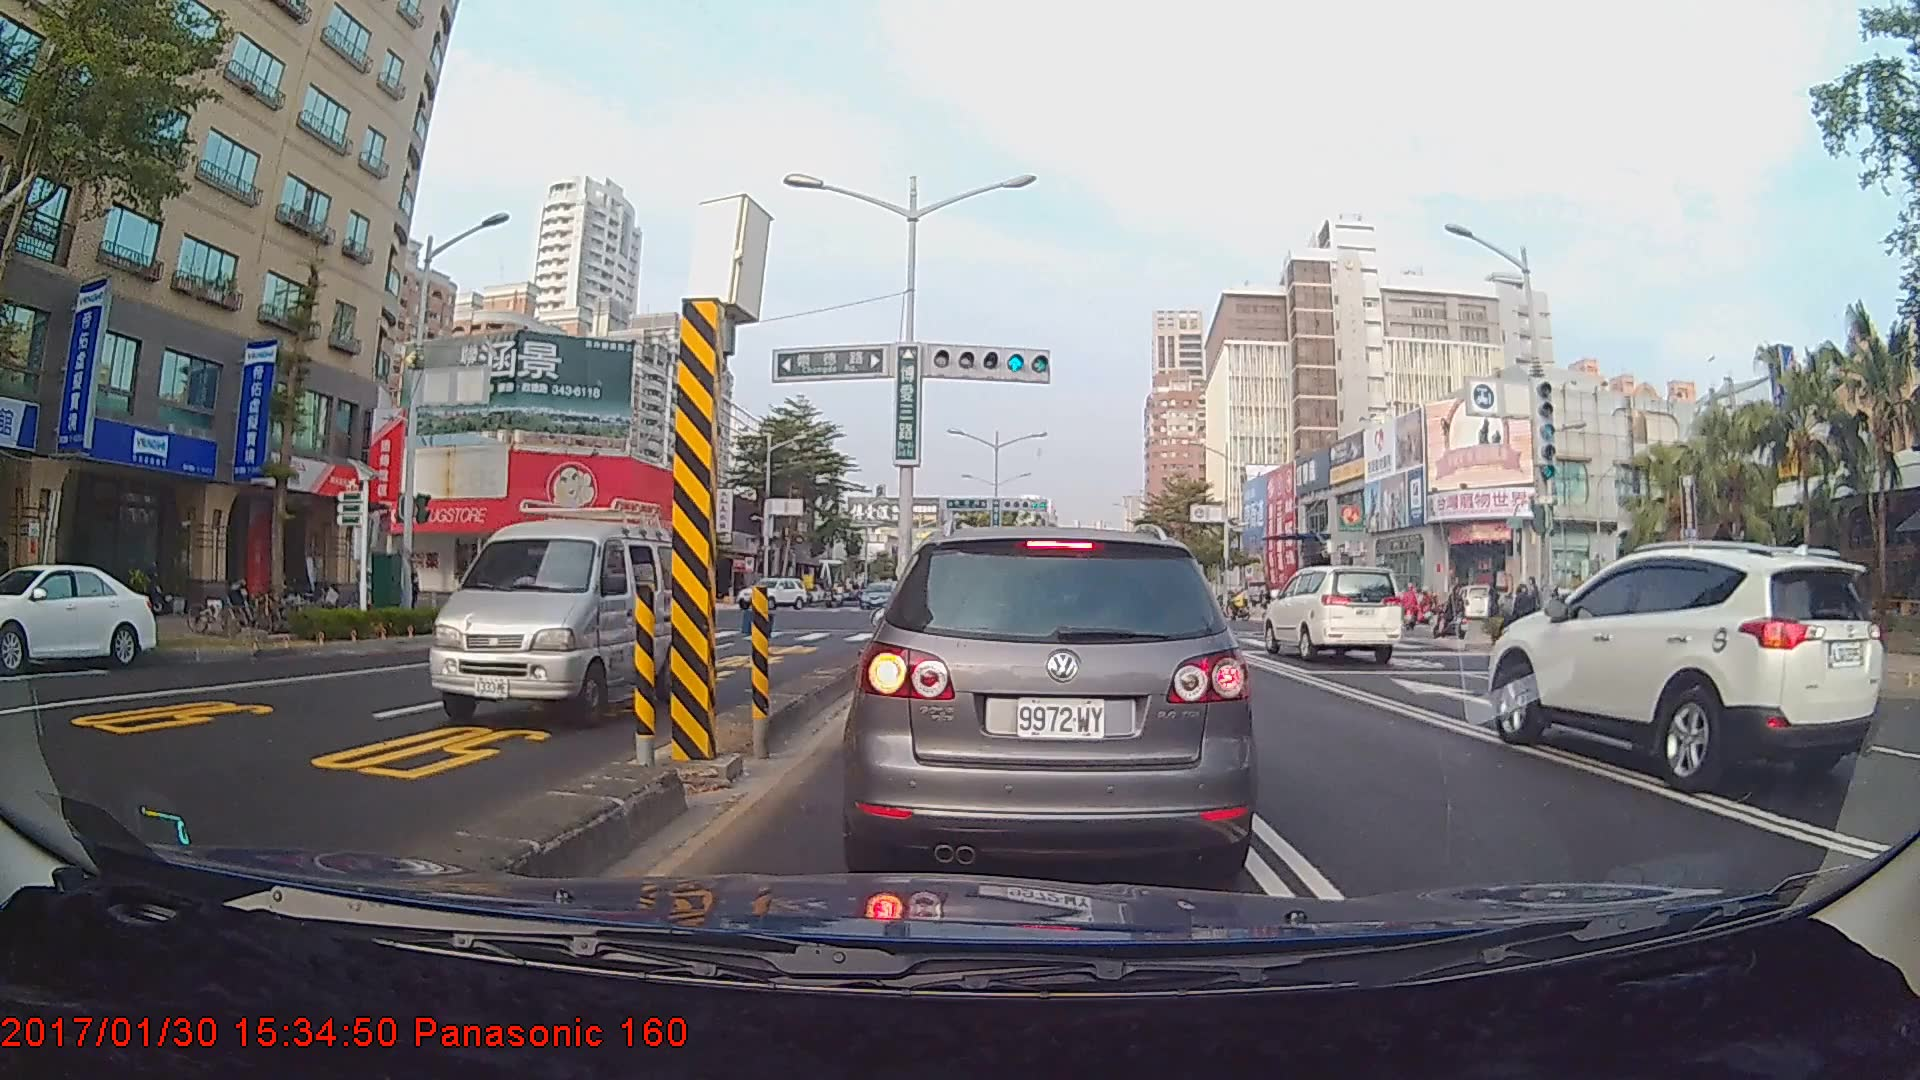rider: (1436, 582, 1473, 646), (1395, 580, 1420, 638)
vehicle: (856, 522, 1248, 879), (1487, 539, 1884, 793), (427, 497, 710, 729), (0, 561, 158, 671), (1260, 564, 1404, 663), (858, 579, 898, 610)
